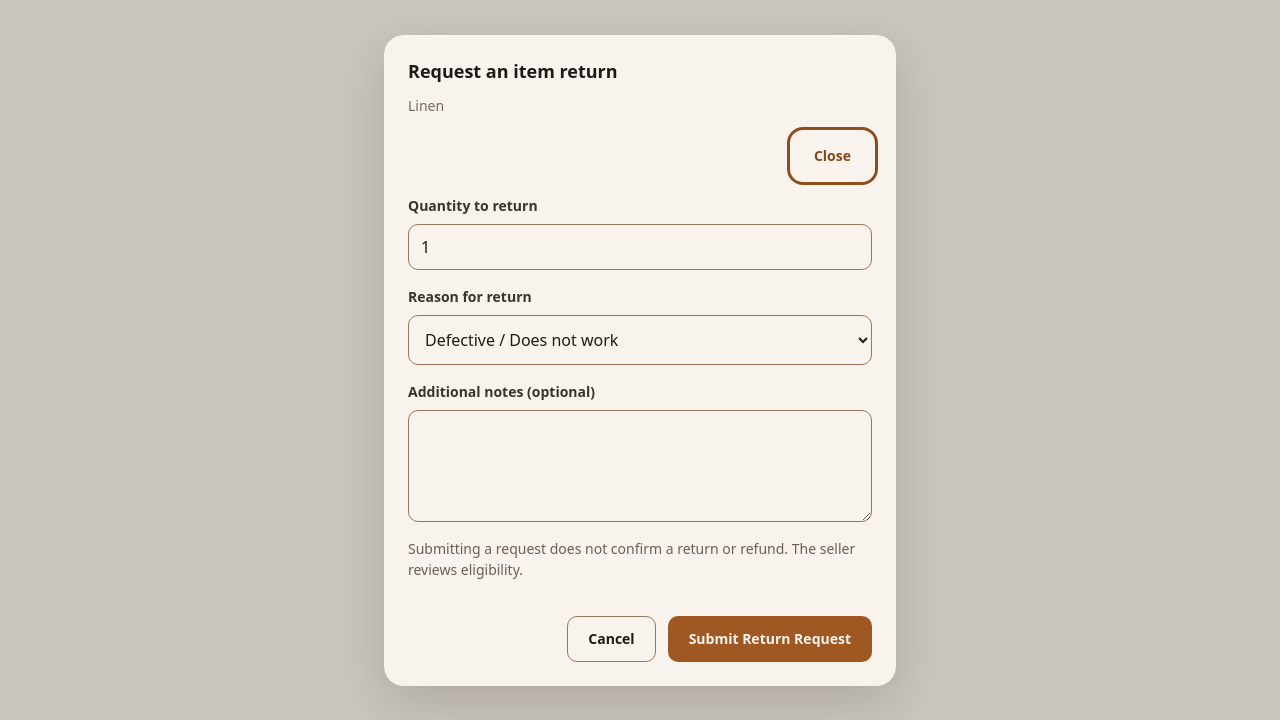
Test: bounds return quantity and does not send a fractional command
Step 1. Replace the text in the number field with test id "return-quantity-select" with "1.5" → (640, 246), box [408, 224, 872, 270]
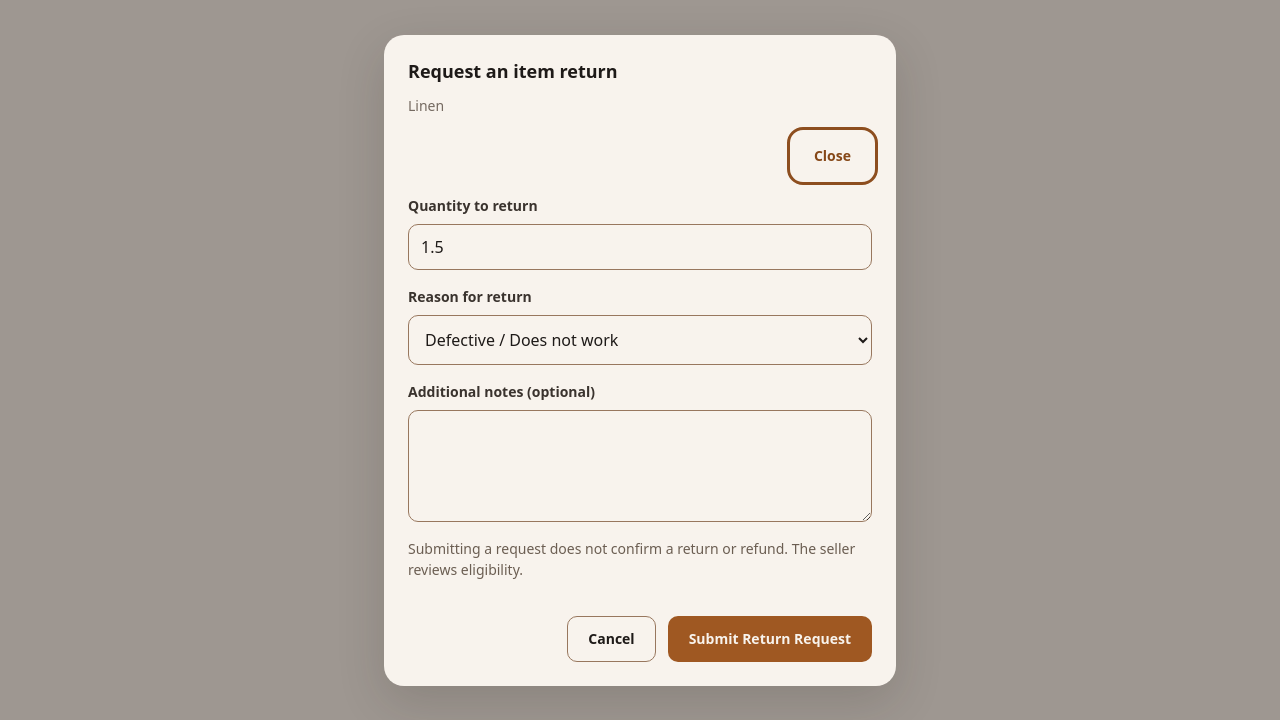
Step 2. Submit the form with test id "submit-return-button", box [408, 194, 872, 662]
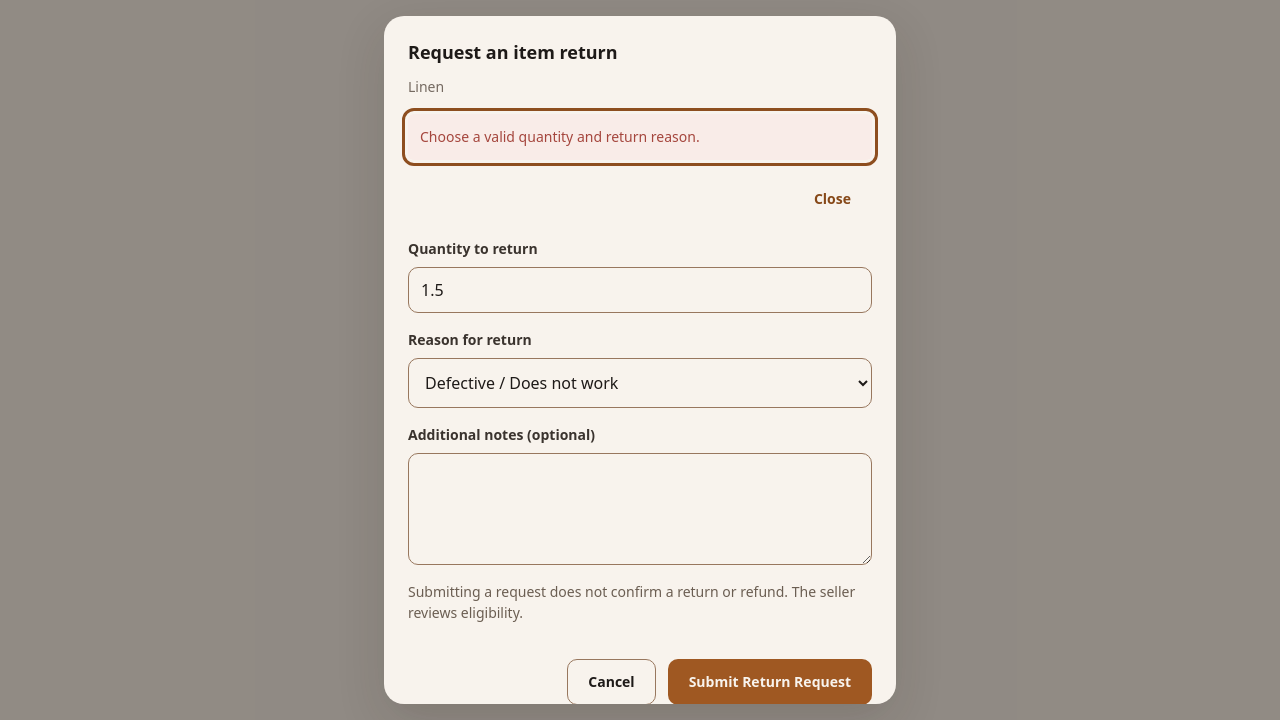
Expected: the message shows "valid quantity", [420, 127, 700, 146]
